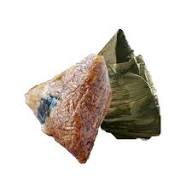zongzi: (25, 54, 111, 162), (99, 29, 160, 138)
